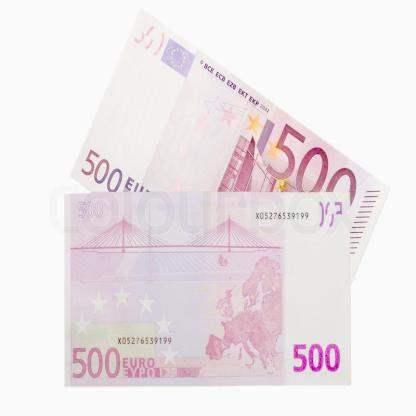euro_banknote: (92, 59, 393, 247), (65, 194, 352, 388)
